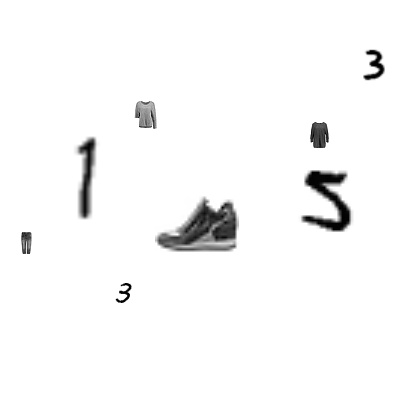1: (27, 118, 139, 230)
3: (353, 44, 395, 86), (111, 279, 139, 307)
5: (284, 156, 368, 240)
Pullover: (131, 101, 159, 129), (305, 121, 333, 149)
Sneaker: (155, 182, 239, 266)
Trouser: (15, 232, 37, 254)
